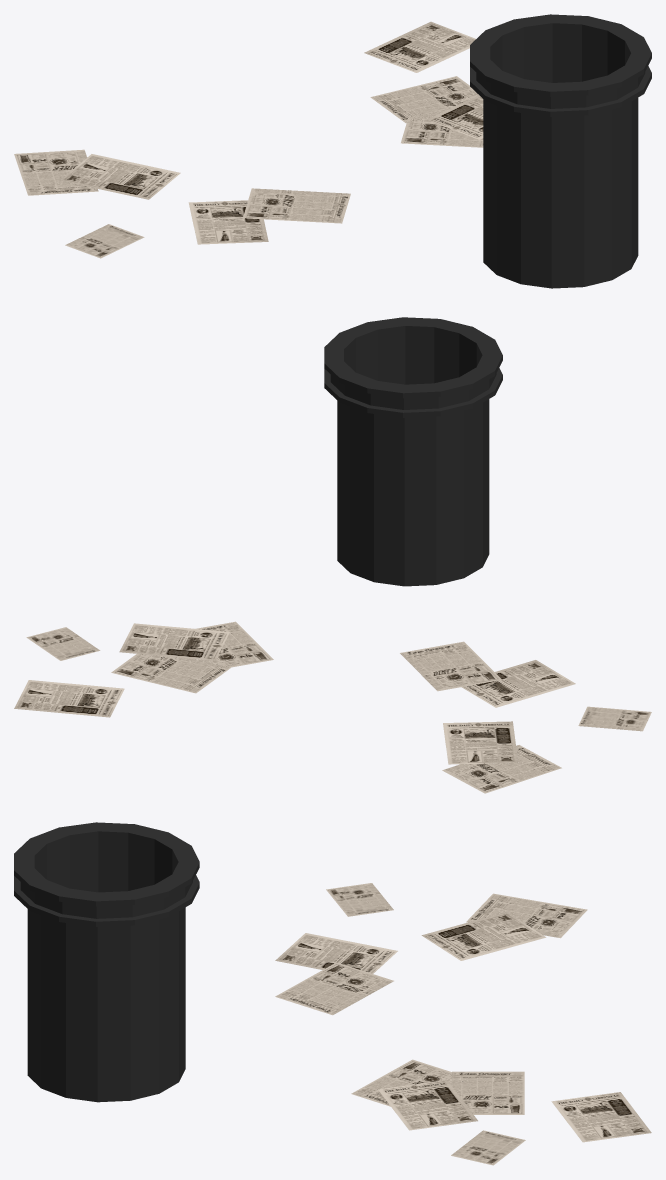
File: Props1.fbx
3 views of the same model, one above another, from view 1: azimuth 30°, elevation 25°; view 2: azimuth 150°, elevation 25°; view 3: azimuth 270°, elevation 25° (orthographic). The views are drawn at different scales.
Visible parts, largest first — view 1: Cylinder.006, Plane.009, Plane.008; view 2: Cylinder.006, Plane.009, Plane.008; view 3: Cylinder.006, Plane.009, Plane.008.
Boxes of the visible parts, left/top/right/bottom form: Cylinder.006: left=470, top=14, right=651, bottom=288; Plane.009: left=14, top=149, right=350, bottom=258; Plane.008: left=364, top=21, right=483, bottom=147; Cylinder.006: left=324, top=317, right=502, bottom=586; Plane.009: left=400, top=641, right=651, bottom=793; Plane.008: left=14, top=621, right=273, bottom=717; Cylinder.006: left=14, top=822, right=199, bottom=1102; Plane.009: left=275, top=883, right=587, bottom=1015; Plane.008: left=351, top=1059, right=651, bottom=1165.
Bounding box in the file's own units: 988 × 336 × 941.
